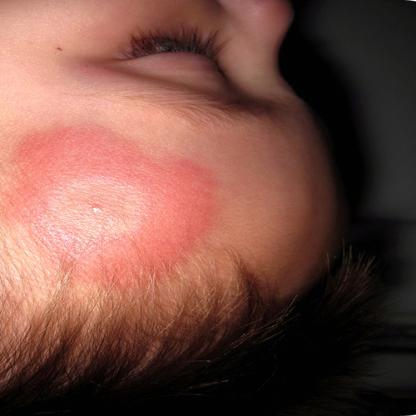Tick: (1, 120, 227, 296)
